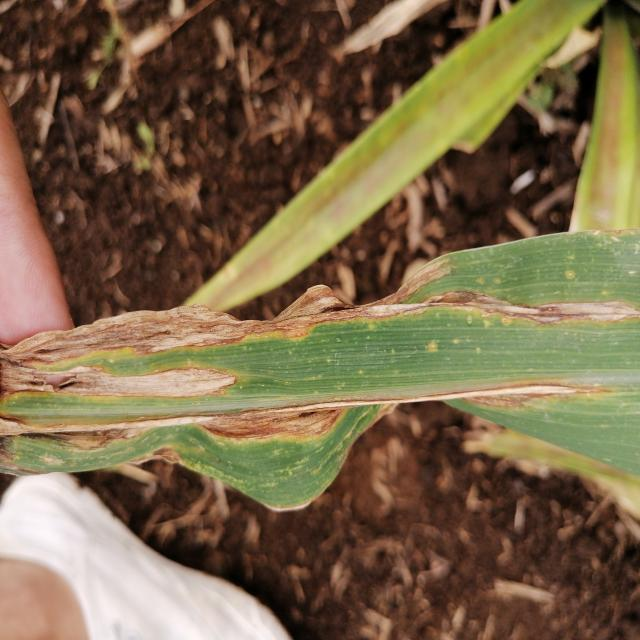Corn_Leaf_Blight: (0, 248, 640, 508)
